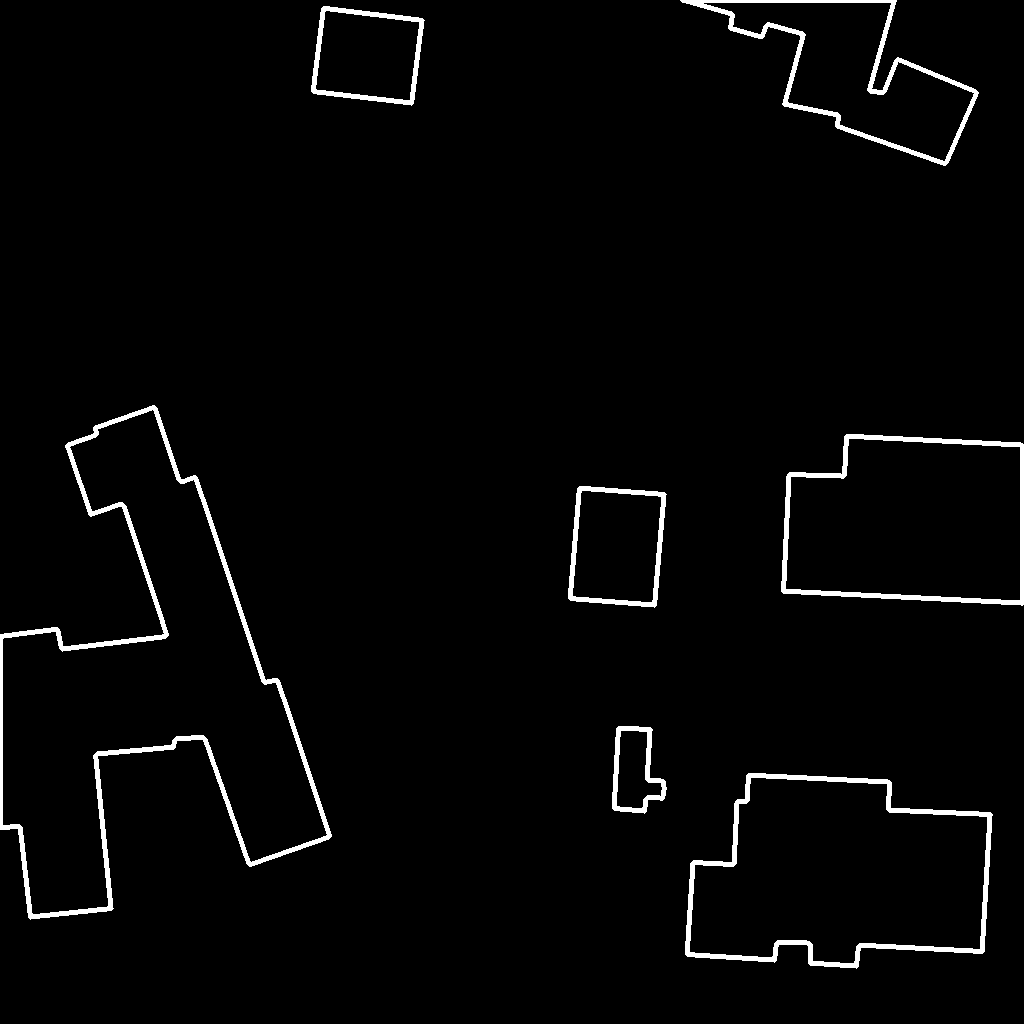building: (0, 407, 331, 918), (687, 775, 991, 967), (681, 0, 978, 165), (783, 436, 1024, 604), (570, 488, 665, 606), (313, 8, 423, 104), (614, 728, 665, 812)
